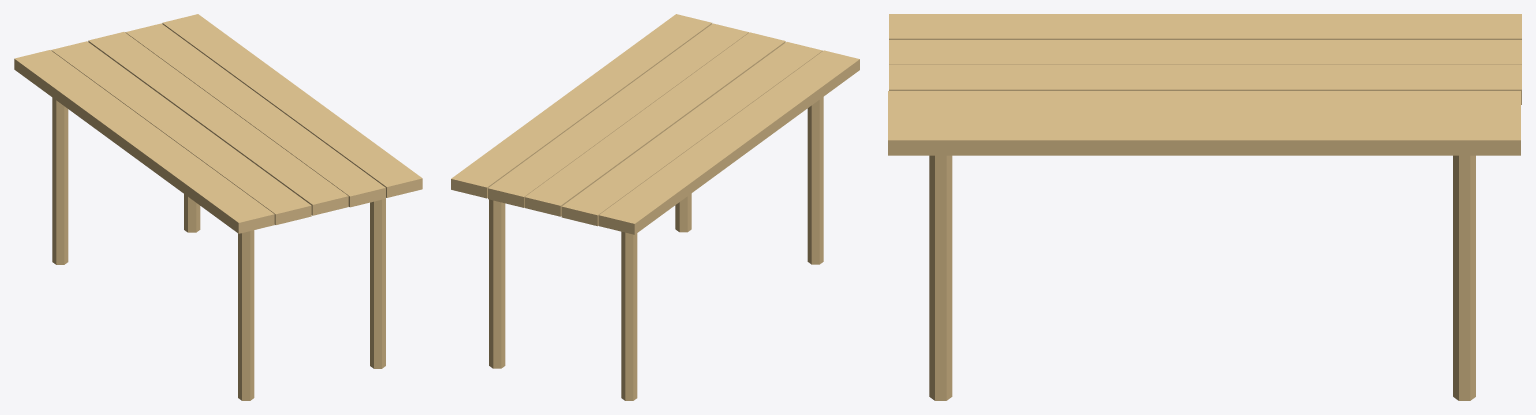
The model's file is table.fbx.
3 renders of one model, left to right at view 1: azimuth 30°, elevation 25°; view 2: azimuth 150°, elevation 25°; view 3: azimuth 270°, elevation 25°, orthographic. The views are drawn at different scales.
Parts seen in each view (by area): view 1: table; view 2: table; view 3: table.
Part boxes in pixels (bbox=[...]): table: bbox=[14, 14, 422, 400]; table: bbox=[451, 14, 859, 400]; table: bbox=[888, 14, 1521, 400].
Size of the model in its own units: 0.8211 by 0.8322 by 1.74.
